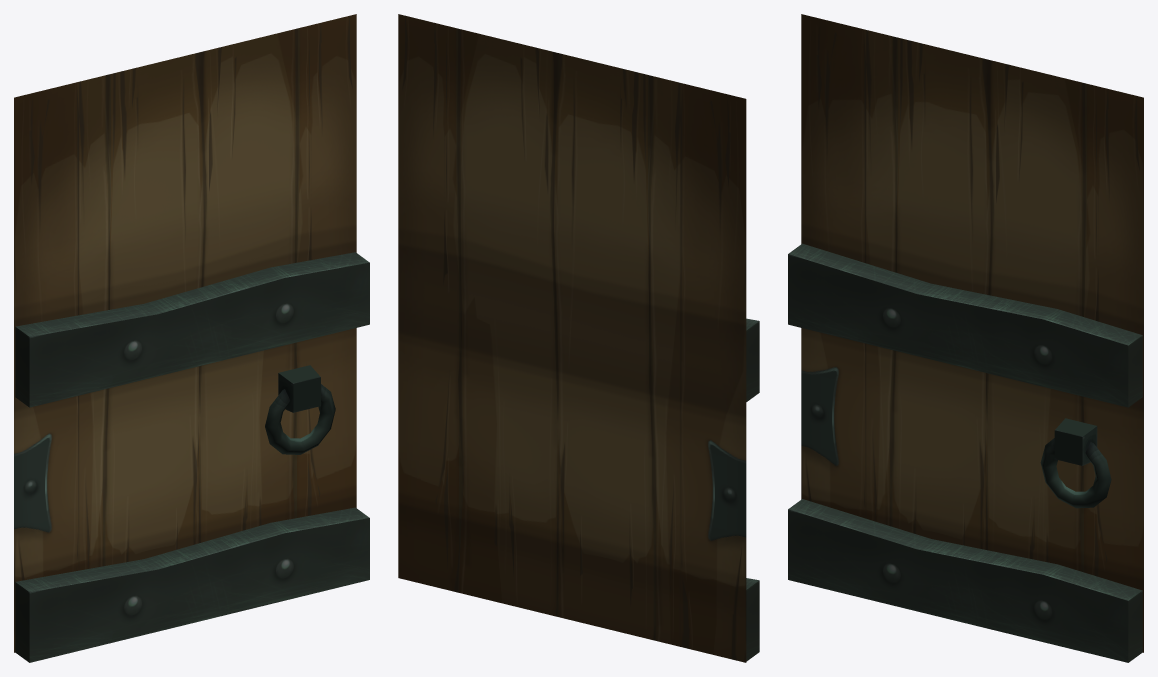
Rendered from Dg_01_door_003.FBX.
3 views of the same model, side by side, from view 1: azimuth 30°, elevation 25°; view 2: azimuth 150°, elevation 25°; view 3: azimuth 330°, elevation 25° (orthographic).
Parts seen in each view (by area): view 1: Dg_01_door_003; view 2: Dg_01_door_003; view 3: Dg_01_door_003.
Boxes of the visible parts, <box> form: Dg_01_door_003: <box>14,14,369,662</box>; Dg_01_door_003: <box>398,14,759,662</box>; Dg_01_door_003: <box>788,14,1143,662</box>.
Size of the model in its own units: 2.6 by 4.03 by 0.1877.
